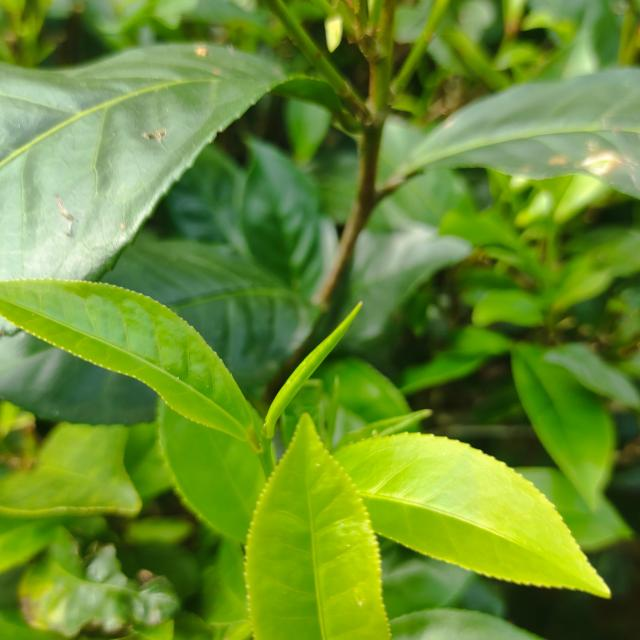unopened_leaf: (254, 292, 374, 450)
